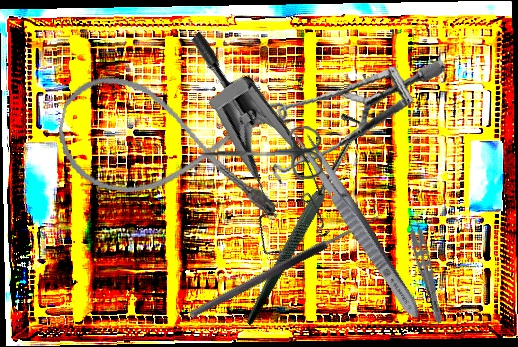Cannula: (49, 68, 295, 224)
Dressing Forceps: (286, 123, 428, 325)
Hook Surgical: (179, 106, 423, 326), (183, 200, 385, 321)
Iris Scissors: (199, 125, 323, 184)
Speculum: (120, 29, 369, 276), (233, 28, 447, 207)
Tissue Forceps: (402, 210, 453, 325)
